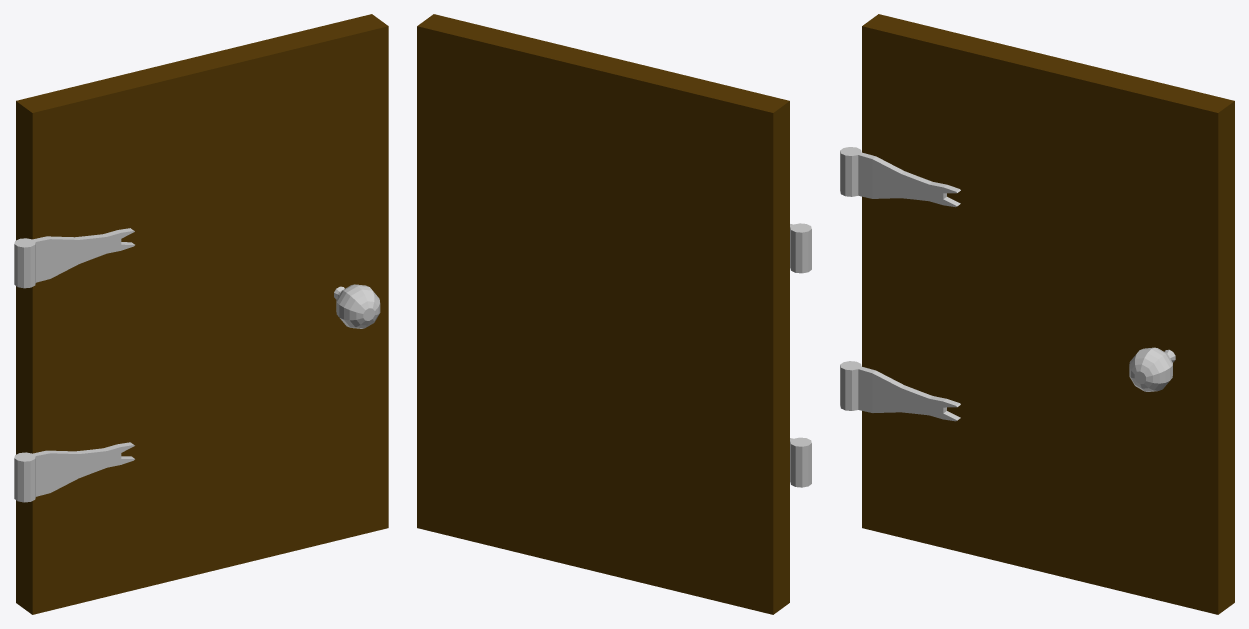
The model's file is Chest_Door_Left_Low.fbx.
The picture shows the model from 3 angles, left to right: view 1: azimuth 30°, elevation 25°; view 2: azimuth 150°, elevation 25°; view 3: azimuth 330°, elevation 25°; orthographic projection.
Visible parts, largest first — view 1: Chest_door_low; view 2: Chest_door_low; view 3: Chest_door_low.
Boxes of the visible parts, bbox=[...] form: Chest_door_low: bbox=[14, 14, 388, 614]; Chest_door_low: bbox=[417, 14, 811, 614]; Chest_door_low: bbox=[840, 14, 1234, 614].
Size of the model in its own units: 51.2 by 65.57 by 10.85.
